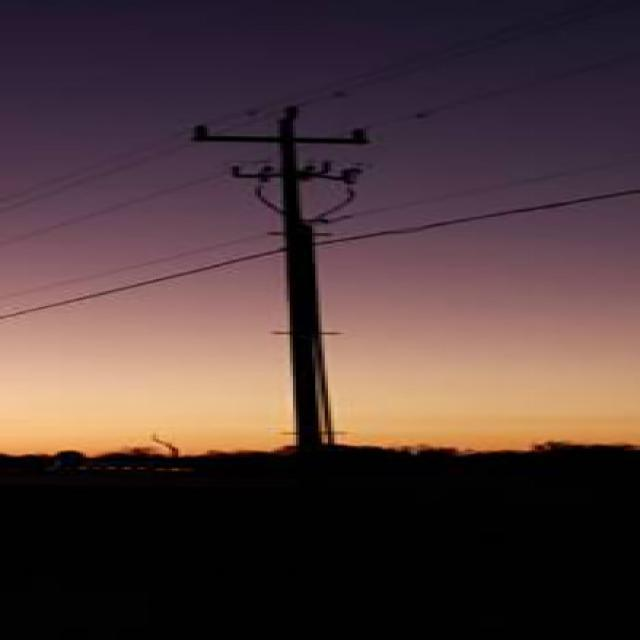pole: (184, 90, 396, 471)
